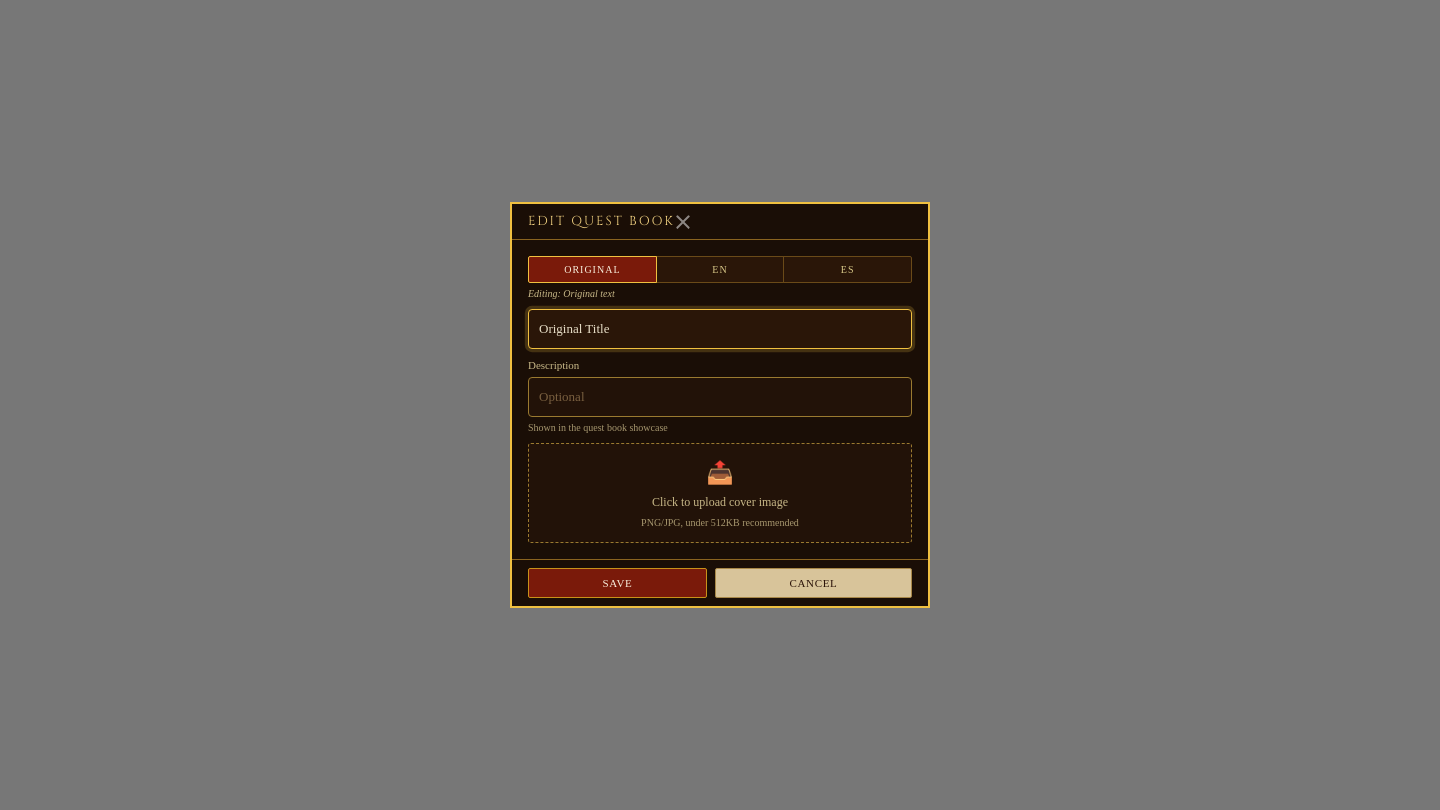
Scenario: EditQuestBookDialog — ContentLocaleTabs (FEAT-041) › switching back to Original shows the untouched Original title
The width and height of the screenshot is (1440, 810).
Click the button "en" at (720, 270), box [656,256,784,283]
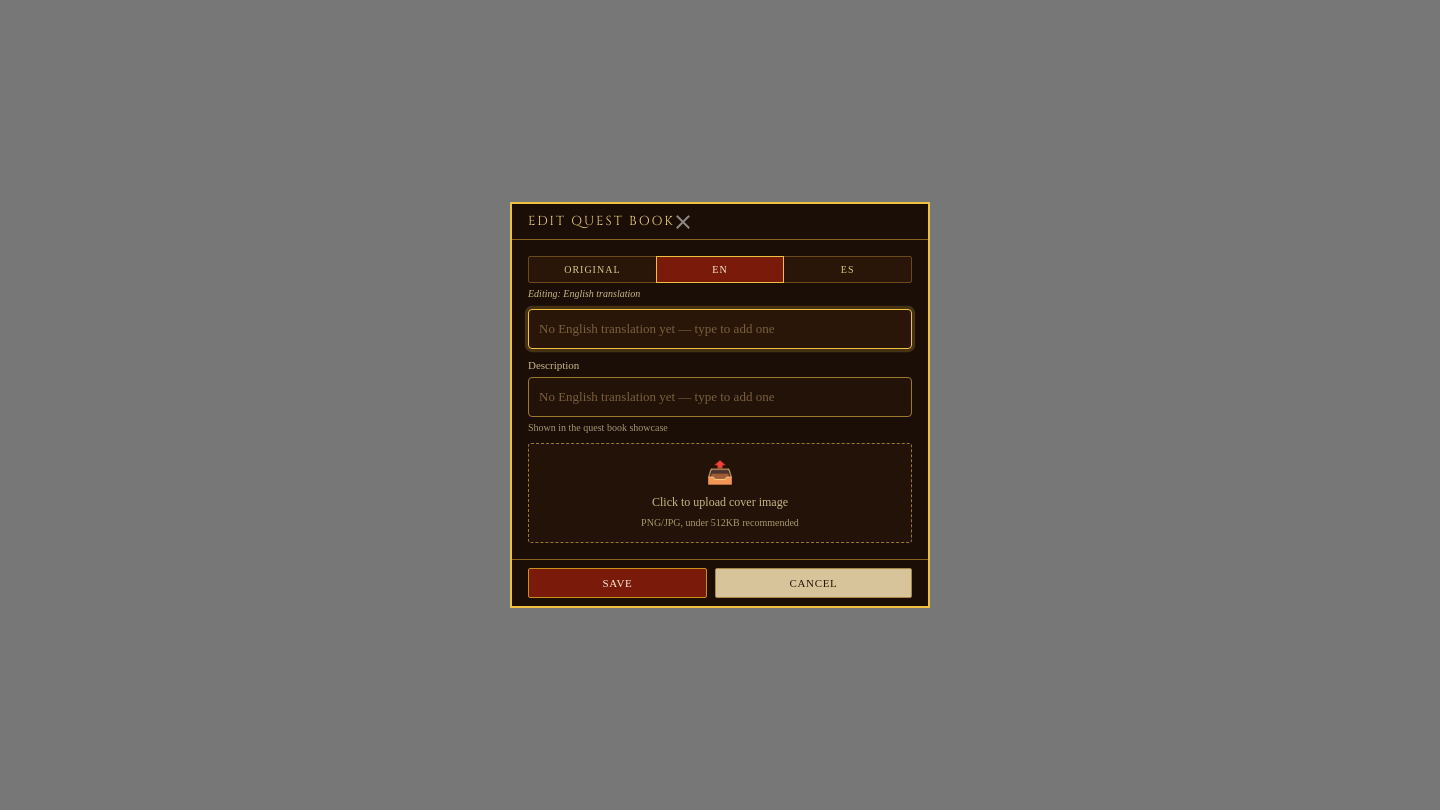
Type "EN Book Title" into the 1st field with class "hq-input-dark" at (720, 329), box [528,309,912,349]
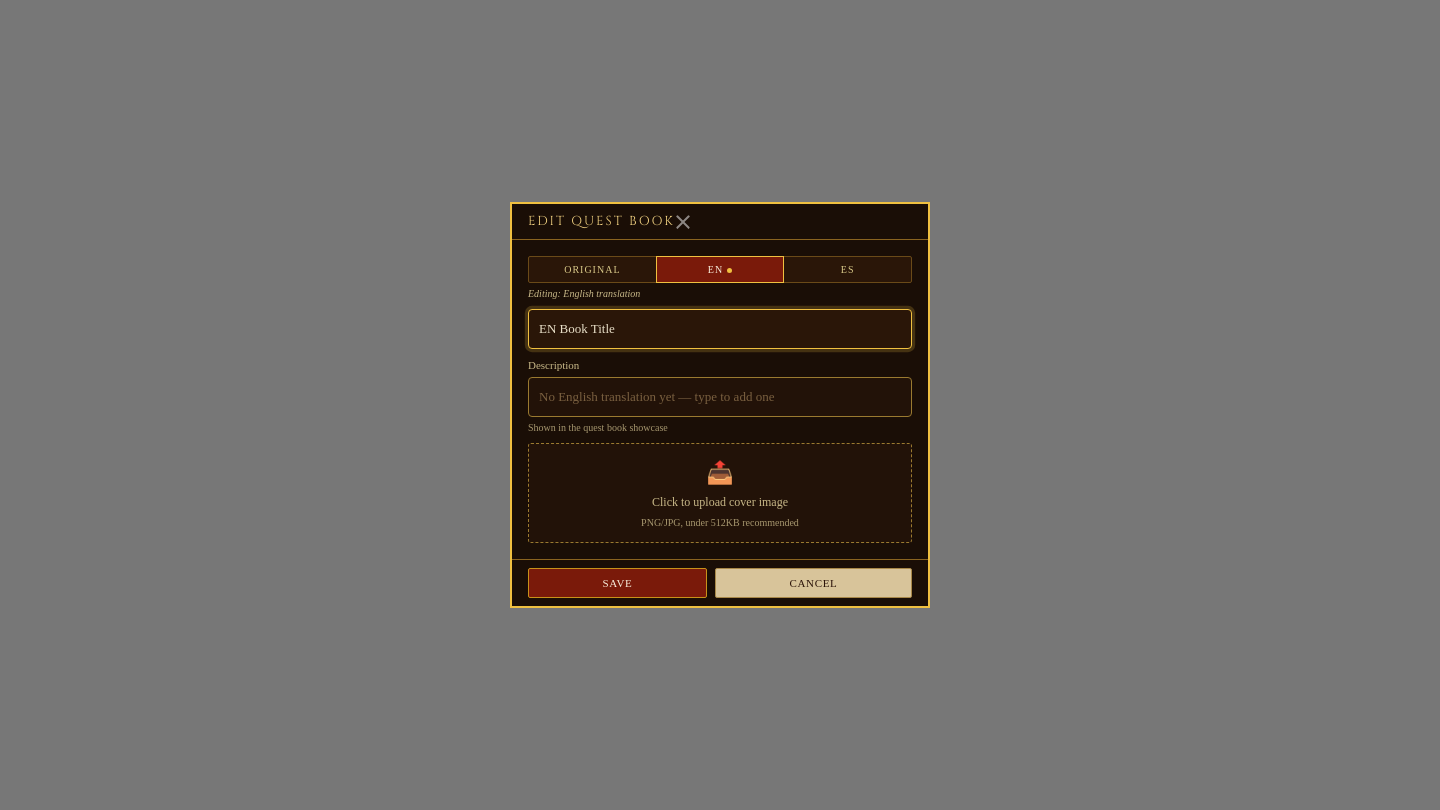
Click the button "Original" at (592, 270), box [528,256,657,283]
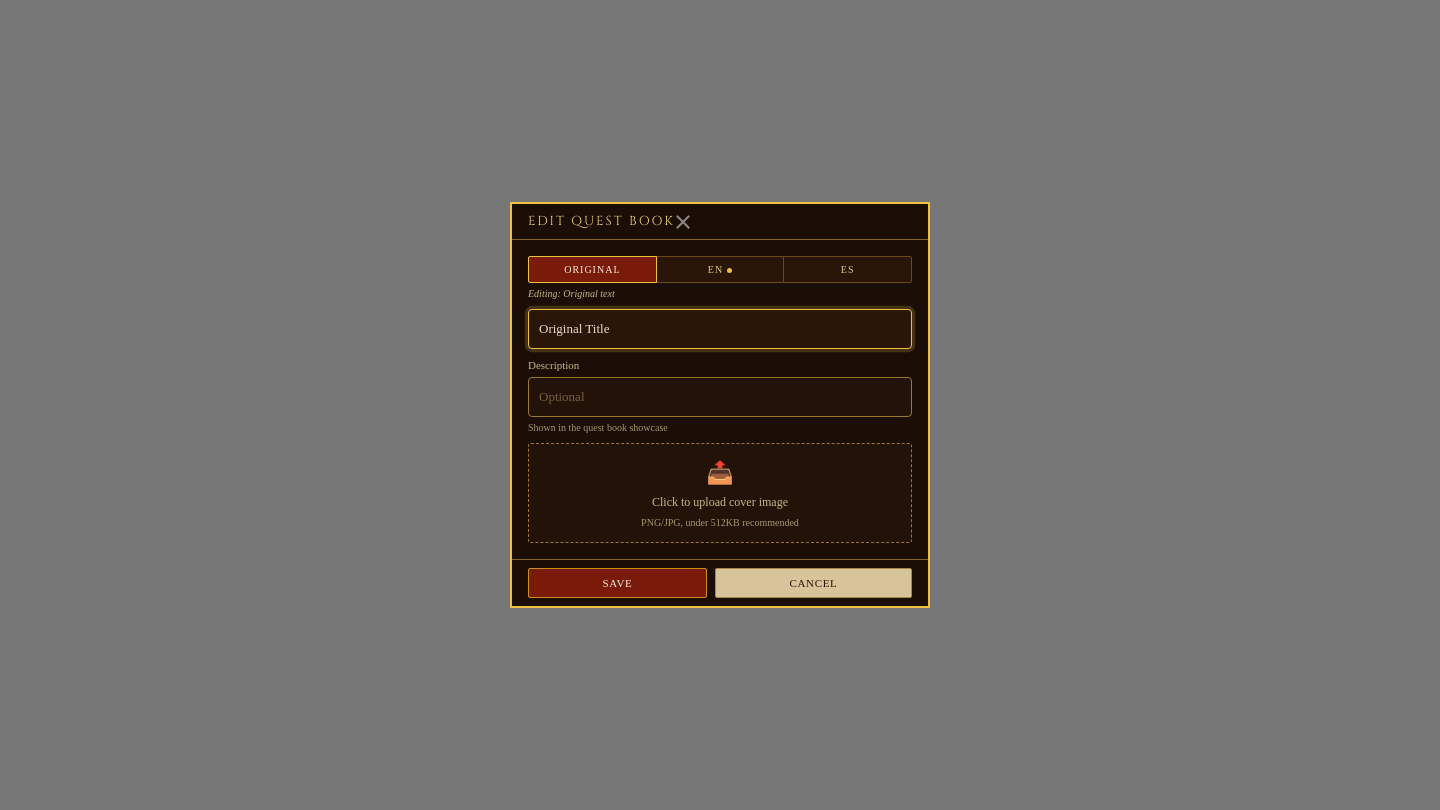
Result: the field with class "hq-input-dark" holds "Original Title" at [528,309,912,349]
